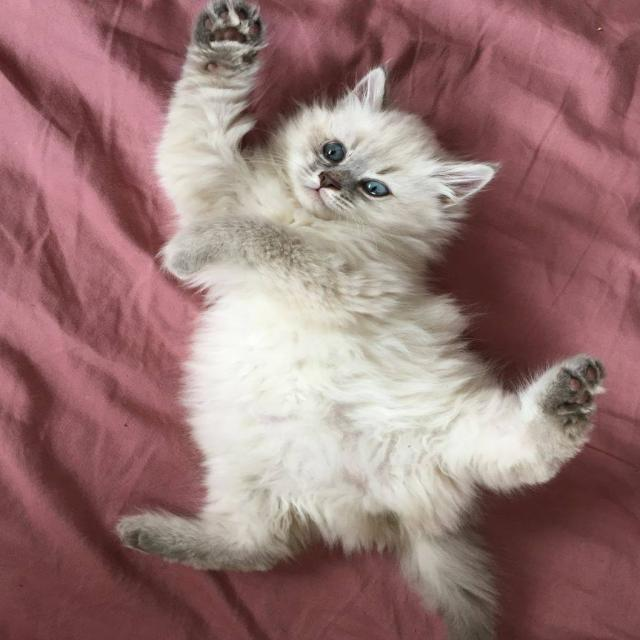Neva Masquerade: (102, 0, 613, 640)
